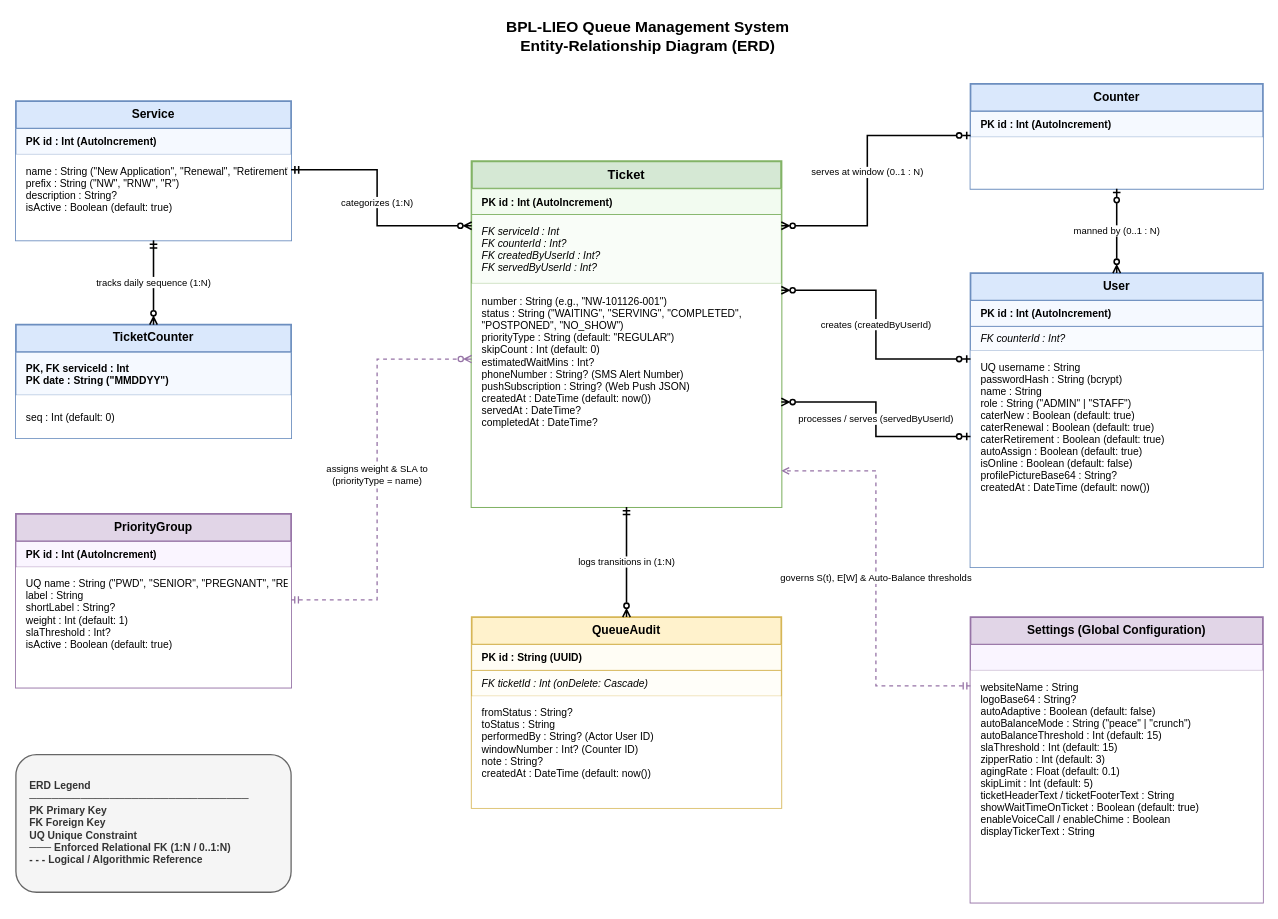
Image size: 1278x919. Some labels were removed from this diagram. Here are the shapes that lost their labels. From the top down, the centre of each, then its label:
(1116,162): name : String ("Counter 1", "Window A") isActive : Boolean (default: true)
(1116,657): PK id : Int (default: 1)
